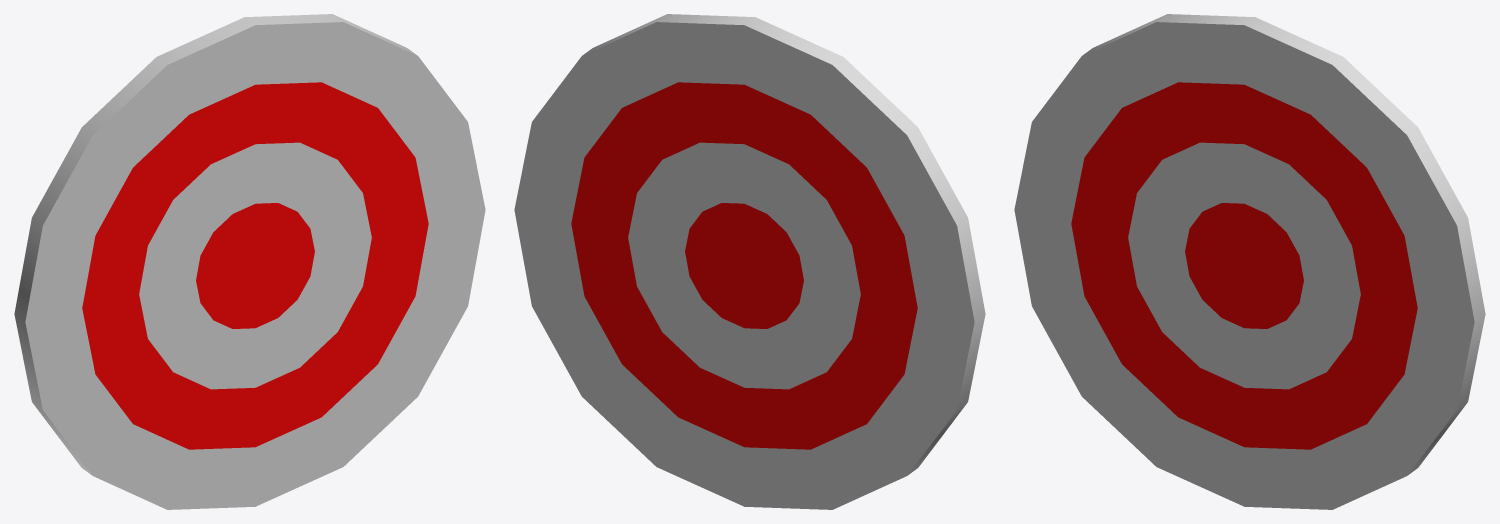
File: Target.fbx
3 renders of one model, left to right at view 1: azimuth 30°, elevation 25°; view 2: azimuth 150°, elevation 25°; view 3: azimuth 330°, elevation 25°, orthographic.
Parts seen in each view (by area): view 1: Target; view 2: Target; view 3: Target.
Part boxes in pixels (x1,y1,x2,y2): Target: (14, 14, 485, 509); Target: (514, 14, 985, 509); Target: (1014, 14, 1485, 509).
Size of the model in its own units: 72.63 by 72.63 by 3.
